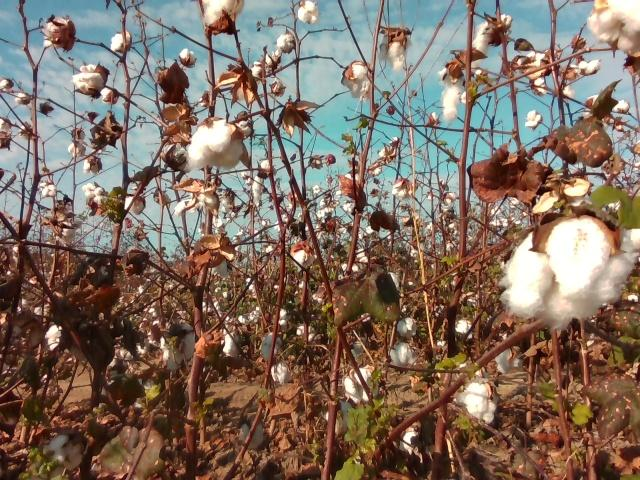cotton_ready: (503, 214, 640, 331), (587, 0, 640, 58), (186, 120, 245, 170), (456, 379, 497, 425), (159, 319, 195, 370), (41, 435, 86, 472), (377, 32, 414, 72), (438, 64, 464, 120), (174, 184, 219, 215), (474, 14, 511, 51), (324, 398, 354, 436), (389, 338, 423, 369), (345, 369, 375, 402), (487, 348, 522, 376), (203, 0, 237, 28), (71, 64, 104, 92), (389, 427, 420, 456), (344, 65, 370, 98), (43, 20, 69, 47), (293, 249, 315, 273), (516, 52, 545, 68), (454, 319, 474, 340), (270, 365, 291, 382)
